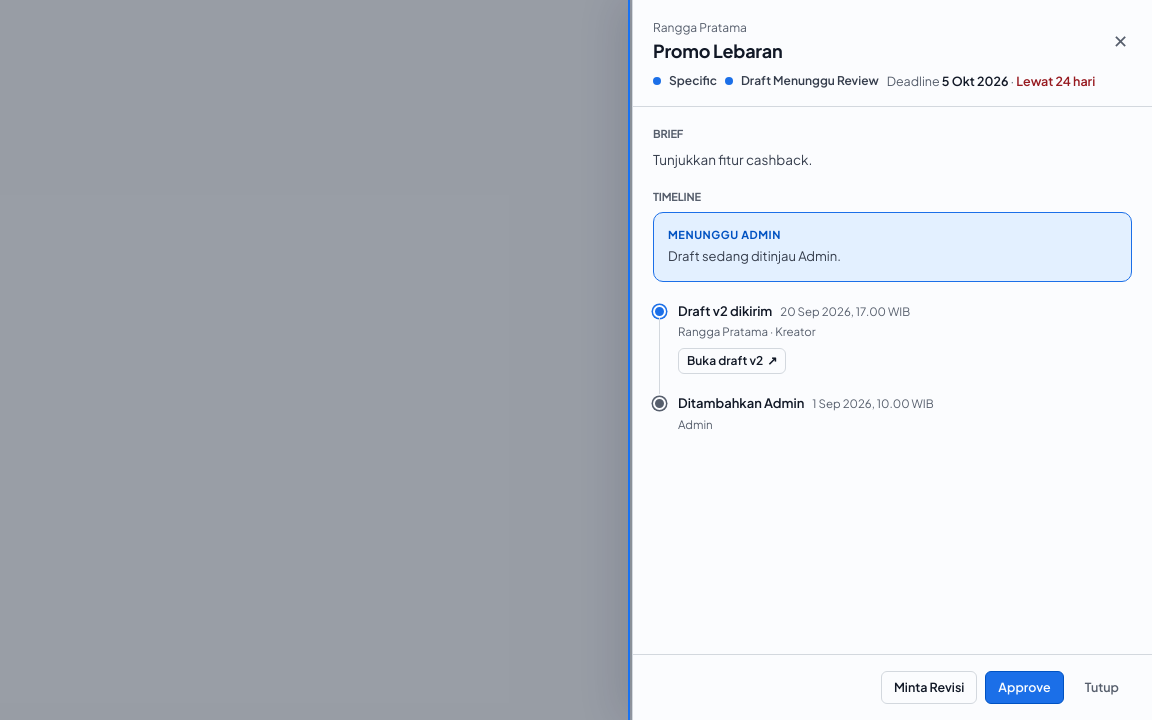
Scenario: ContentDetailPanel › keeps the panel open with the backend's reason when a decision fails
Click the button "Minta Revisi": (929, 688) [881,671,977,704]
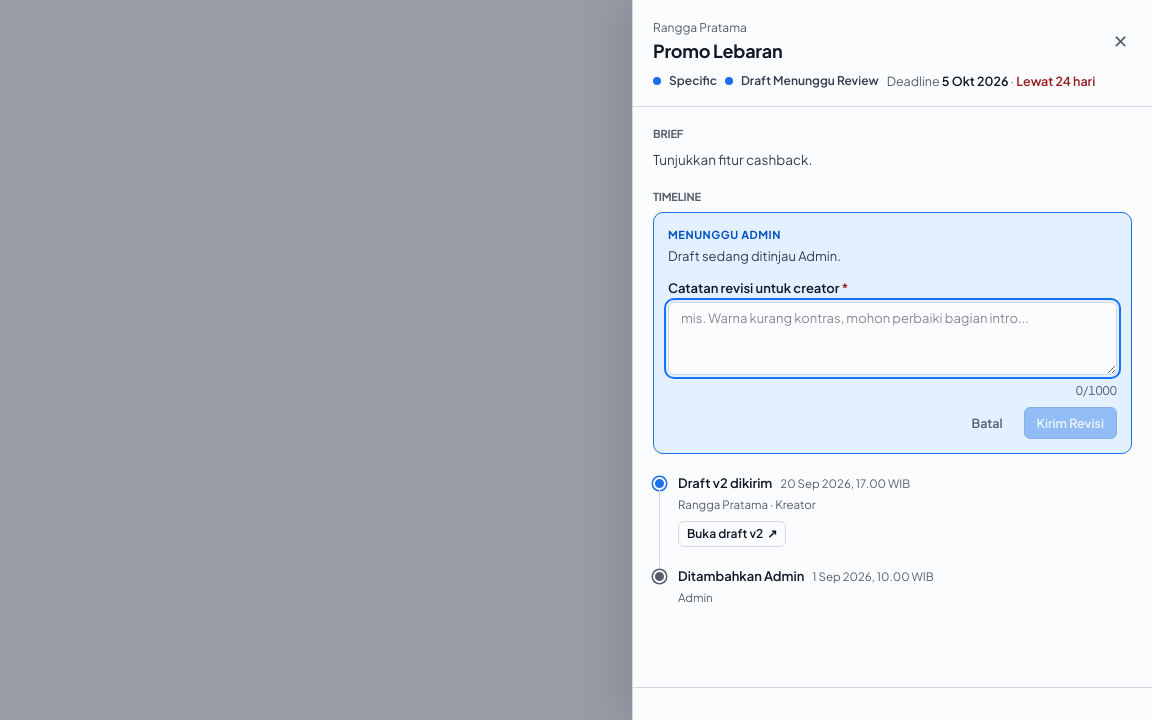
In the text box: (892, 338) [668,302,1117,375], type "Audio terlalu pelan."
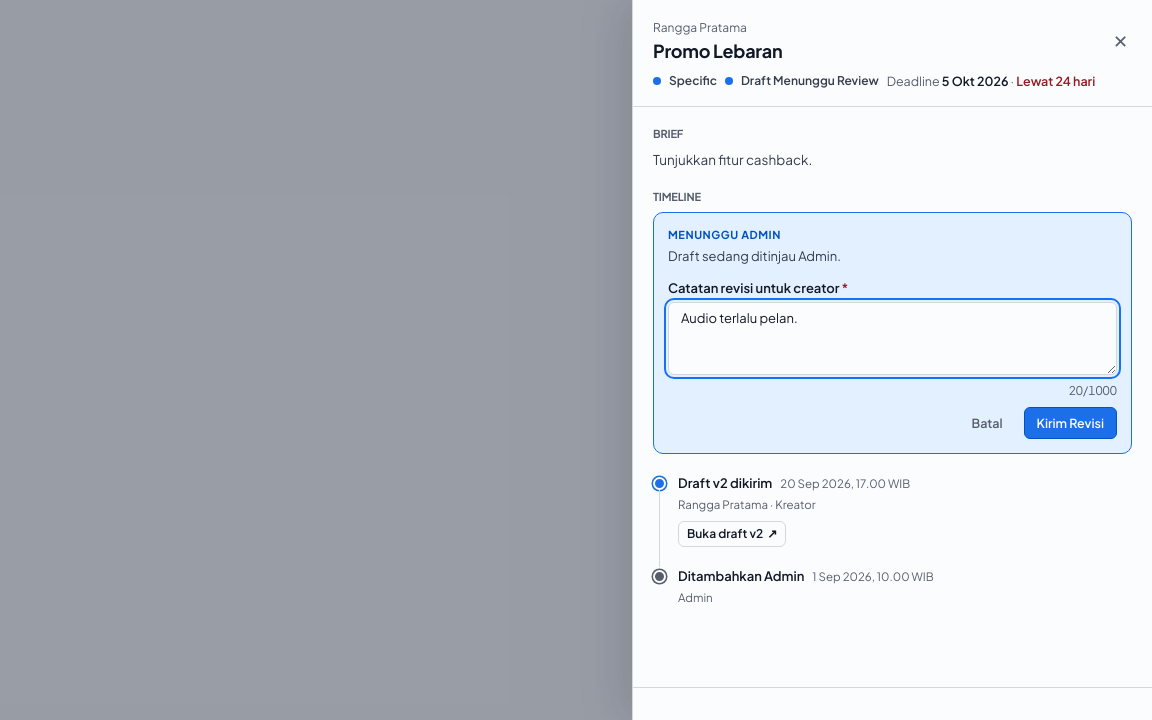
Click the button "Kirim Revisi": (1070, 423) [1024,407,1117,440]
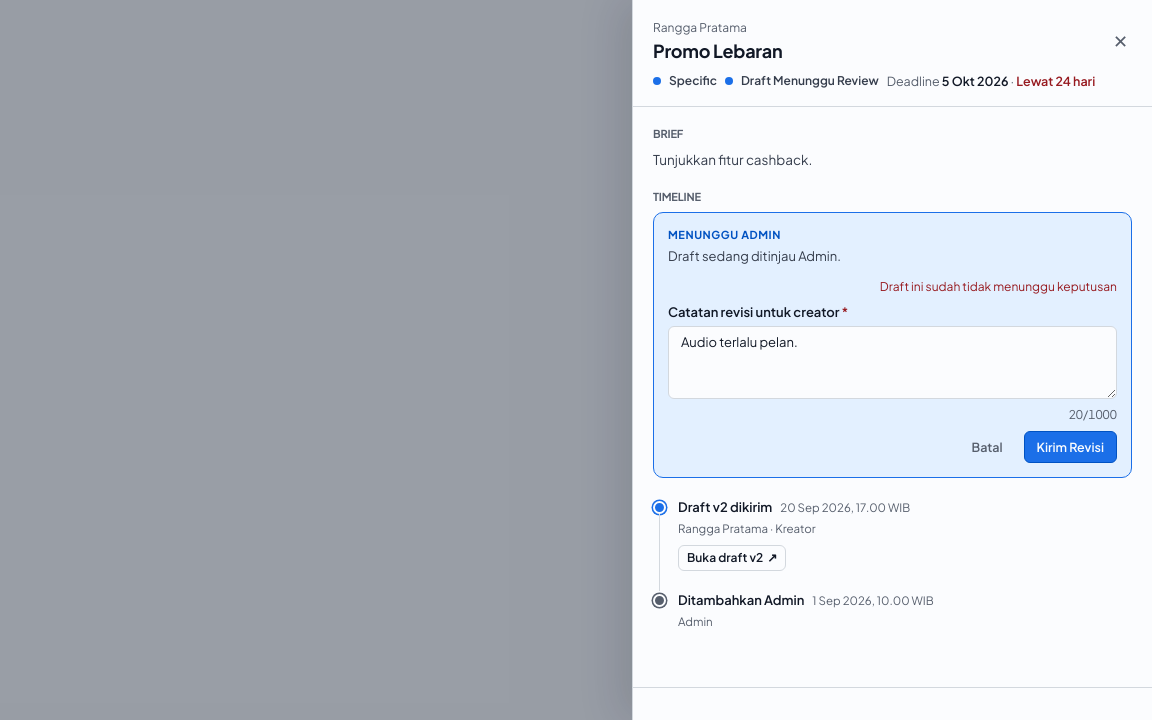
Now the text "Draft ini sudah tidak menunggu keputusan" is shown, box [880,279,1117,294]
